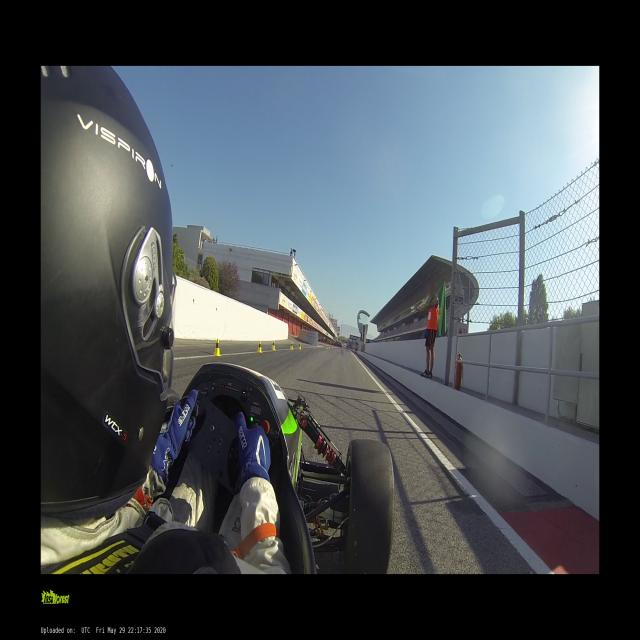yellow_cone: (213, 338, 221, 357), (256, 340, 262, 352), (271, 340, 276, 350), (290, 342, 293, 350), (298, 342, 301, 350), (326, 345, 328, 350), (329, 345, 330, 349), (332, 345, 332, 349)
